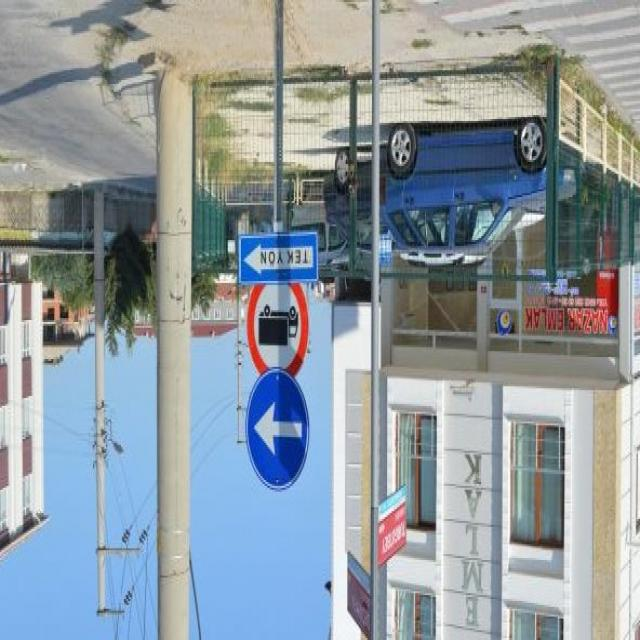Turn Left: (244, 372, 312, 493)
